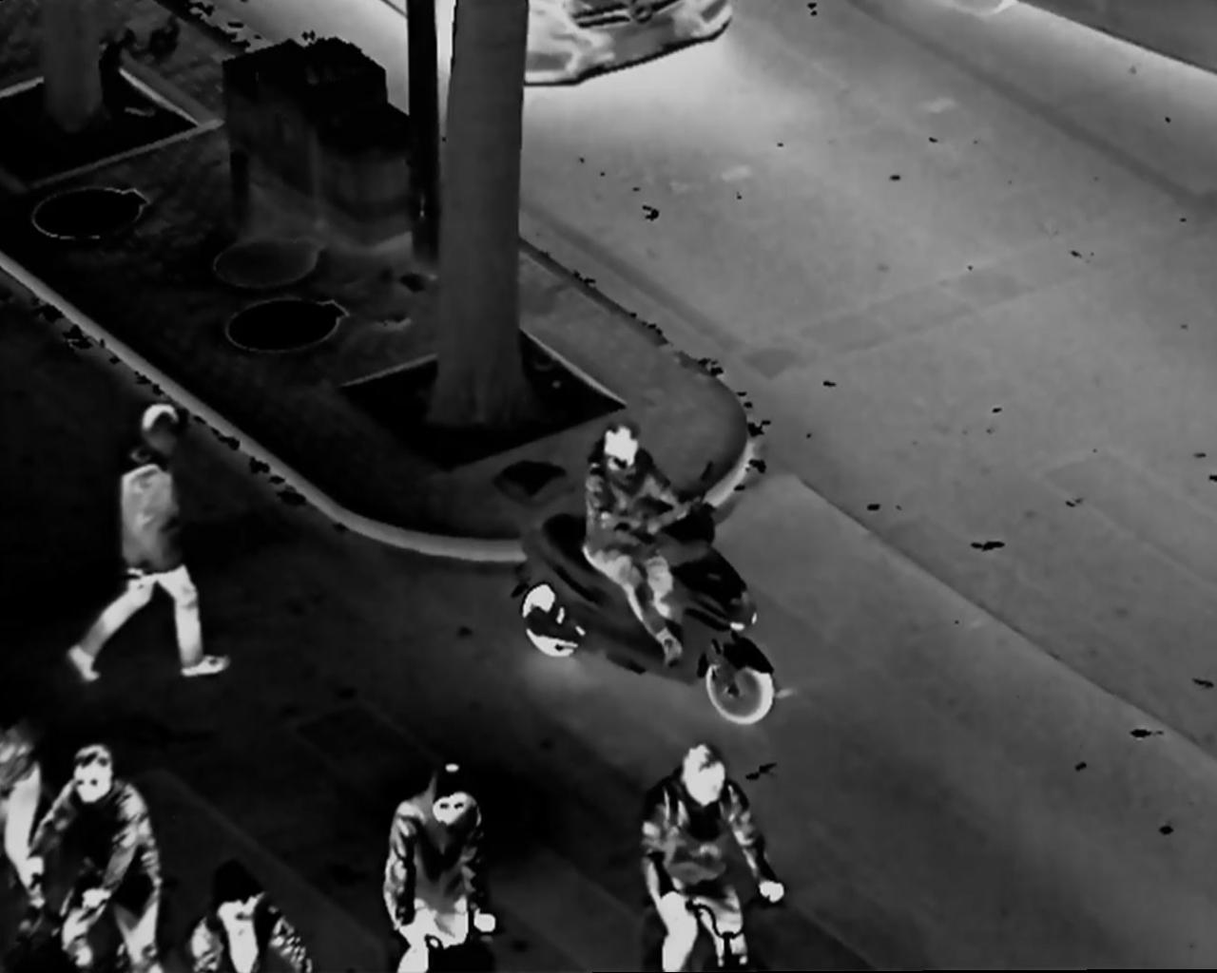person: (71, 402, 225, 694), (640, 737, 785, 973), (589, 420, 705, 666), (377, 753, 503, 973), (45, 741, 159, 973), (187, 864, 310, 973)
